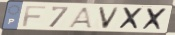7: (48, 5, 70, 29)
A: (66, 6, 94, 29)
F: (21, 5, 48, 28)
V: (97, 6, 122, 31)
X: (140, 7, 170, 31), (117, 7, 145, 31)
